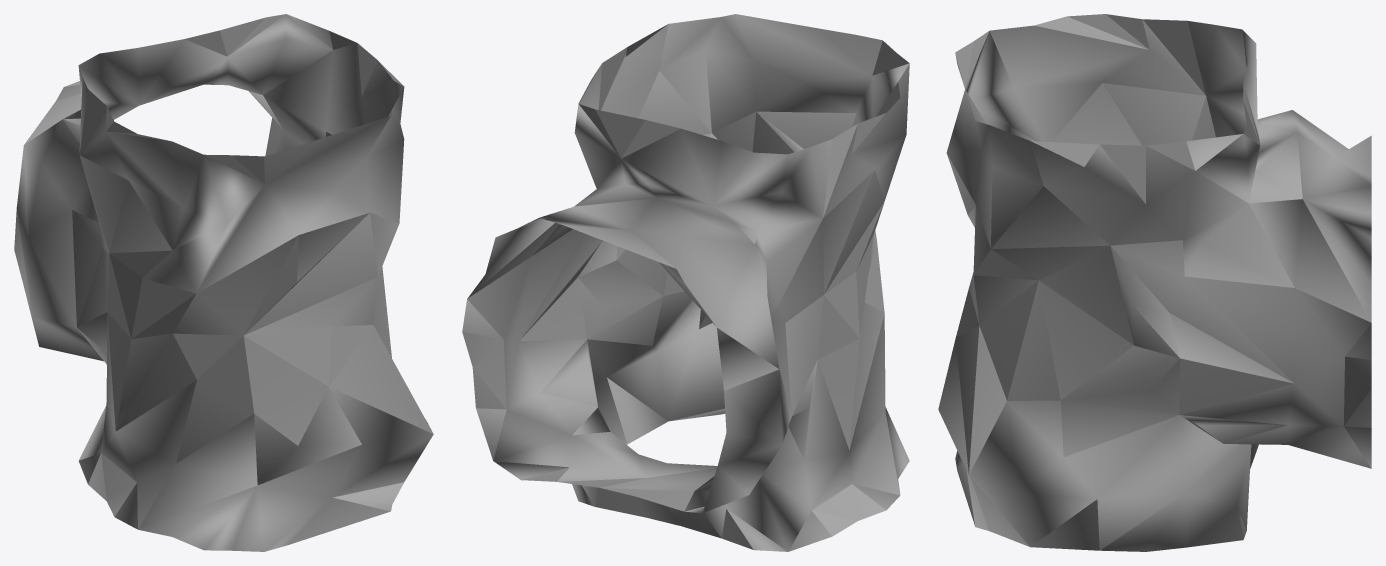
File: TVertical3Connector.fbx
The picture shows the model from 3 angles, left to right: view 1: azimuth 30°, elevation 25°; view 2: azimuth 150°, elevation 25°; view 3: azimuth 270°, elevation 25°; orthographic projection. The views are drawn at different scales.
Parts seen in each view (by area): view 1: TVertical3Connector; view 2: TVertical3Connector; view 3: TVertical3Connector.
Boxes of the visible parts, x1,y1,x2,y2 form: TVertical3Connector: [14, 14, 433, 551]; TVertical3Connector: [462, 14, 909, 551]; TVertical3Connector: [938, 14, 1371, 551].
Size of the model in its own units: 387 by 500 by 484.
